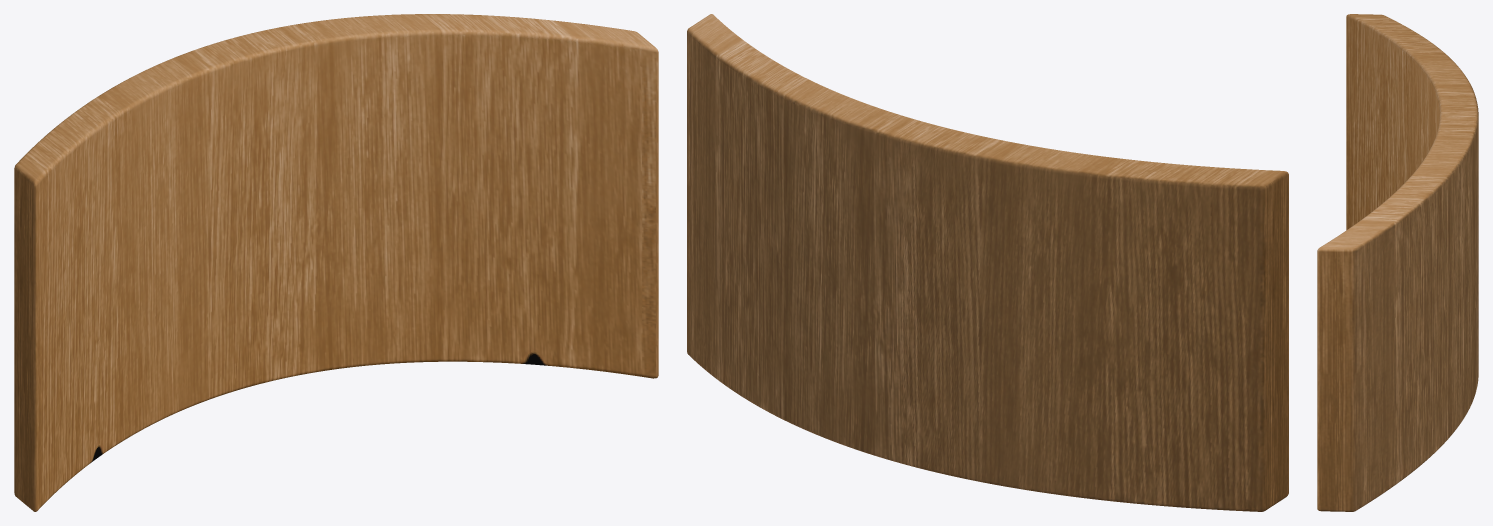
File: stoel-rechts.glb
3 renders of one model, left to right at view 1: azimuth 30°, elevation 25°; view 2: azimuth 150°, elevation 25°; view 3: azimuth 270°, elevation 25°, orthographic. The views are drawn at different scales.
Visible parts, largest first — view 1: Stoel rechts — herstelde rugleuning; view 2: Stoel rechts — herstelde rugleuning; view 3: Stoel rechts — herstelde rugleuning.
Part boxes in pixels (left/top/right/bottom): Stoel rechts — herstelde rugleuning: left=14, top=14, right=658, bottom=511; Stoel rechts — herstelde rugleuning: left=687, top=14, right=1288, bottom=511; Stoel rechts — herstelde rugleuning: left=1317, top=14, right=1478, bottom=511.
Size of the model in its own units: 0.4868 by 0.2667 by 0.1405.
1 material, 1 textured.
